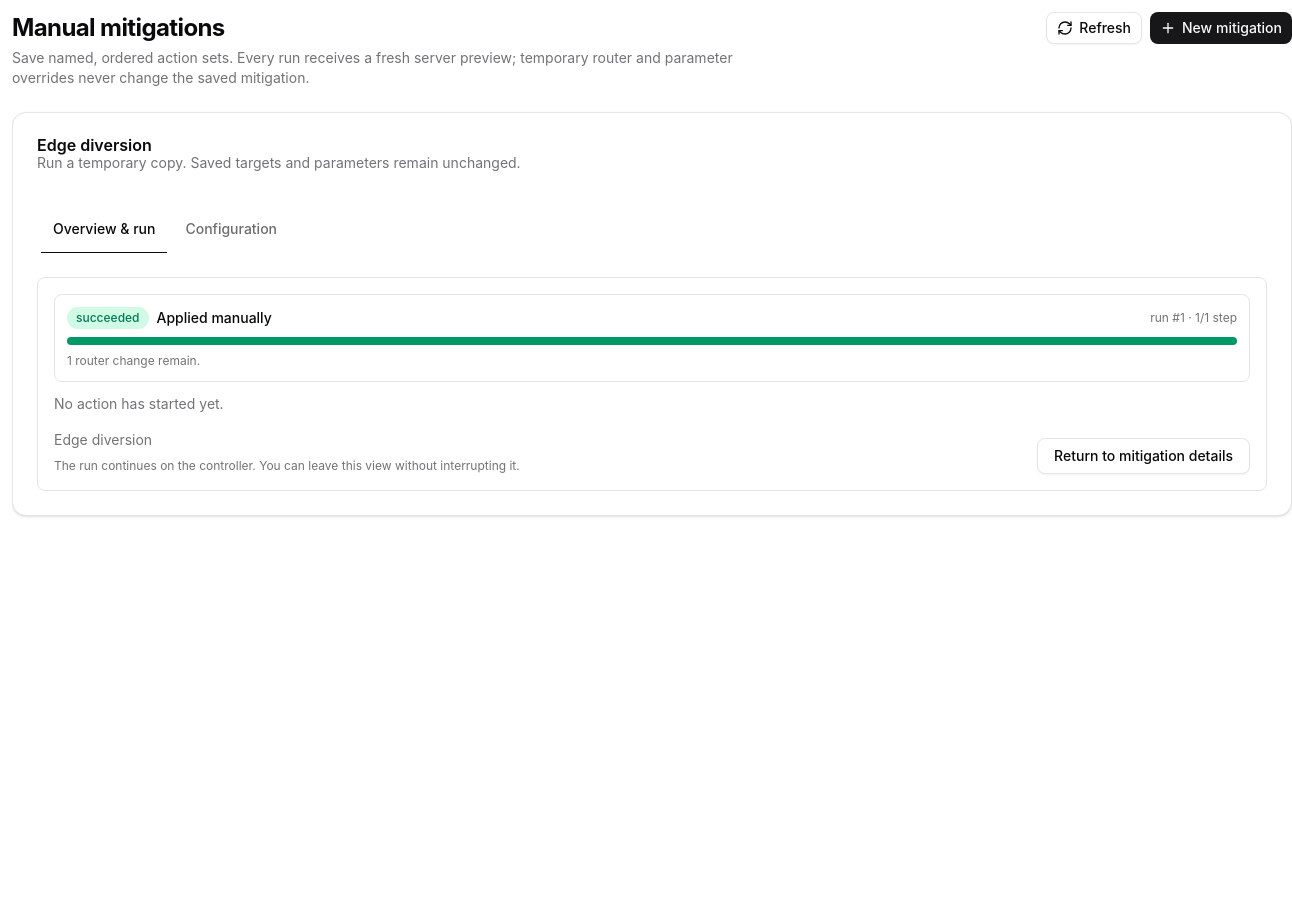
Test case: returns from a direct run link to its saved mitigation details
Click the button "Return to mitigation details" at (1144, 456), box x1=1037 y1=438 x2=1250 y2=474
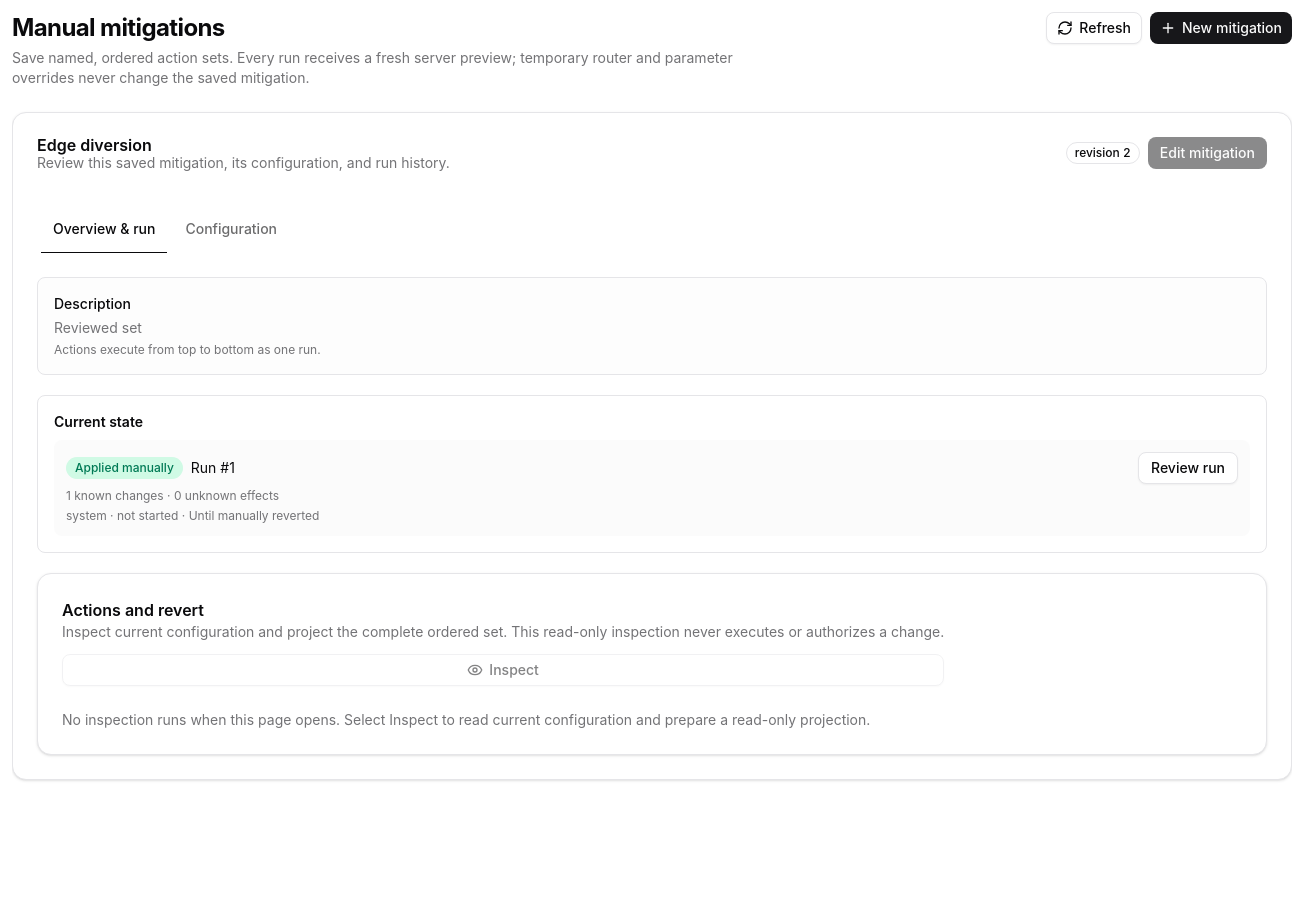
expect the text "Edge diversion" is shown: met, box x1=37 y1=135 x2=152 y2=155
expect the heading "Current state" is shown: met, box x1=54 y1=413 x2=143 y2=430
